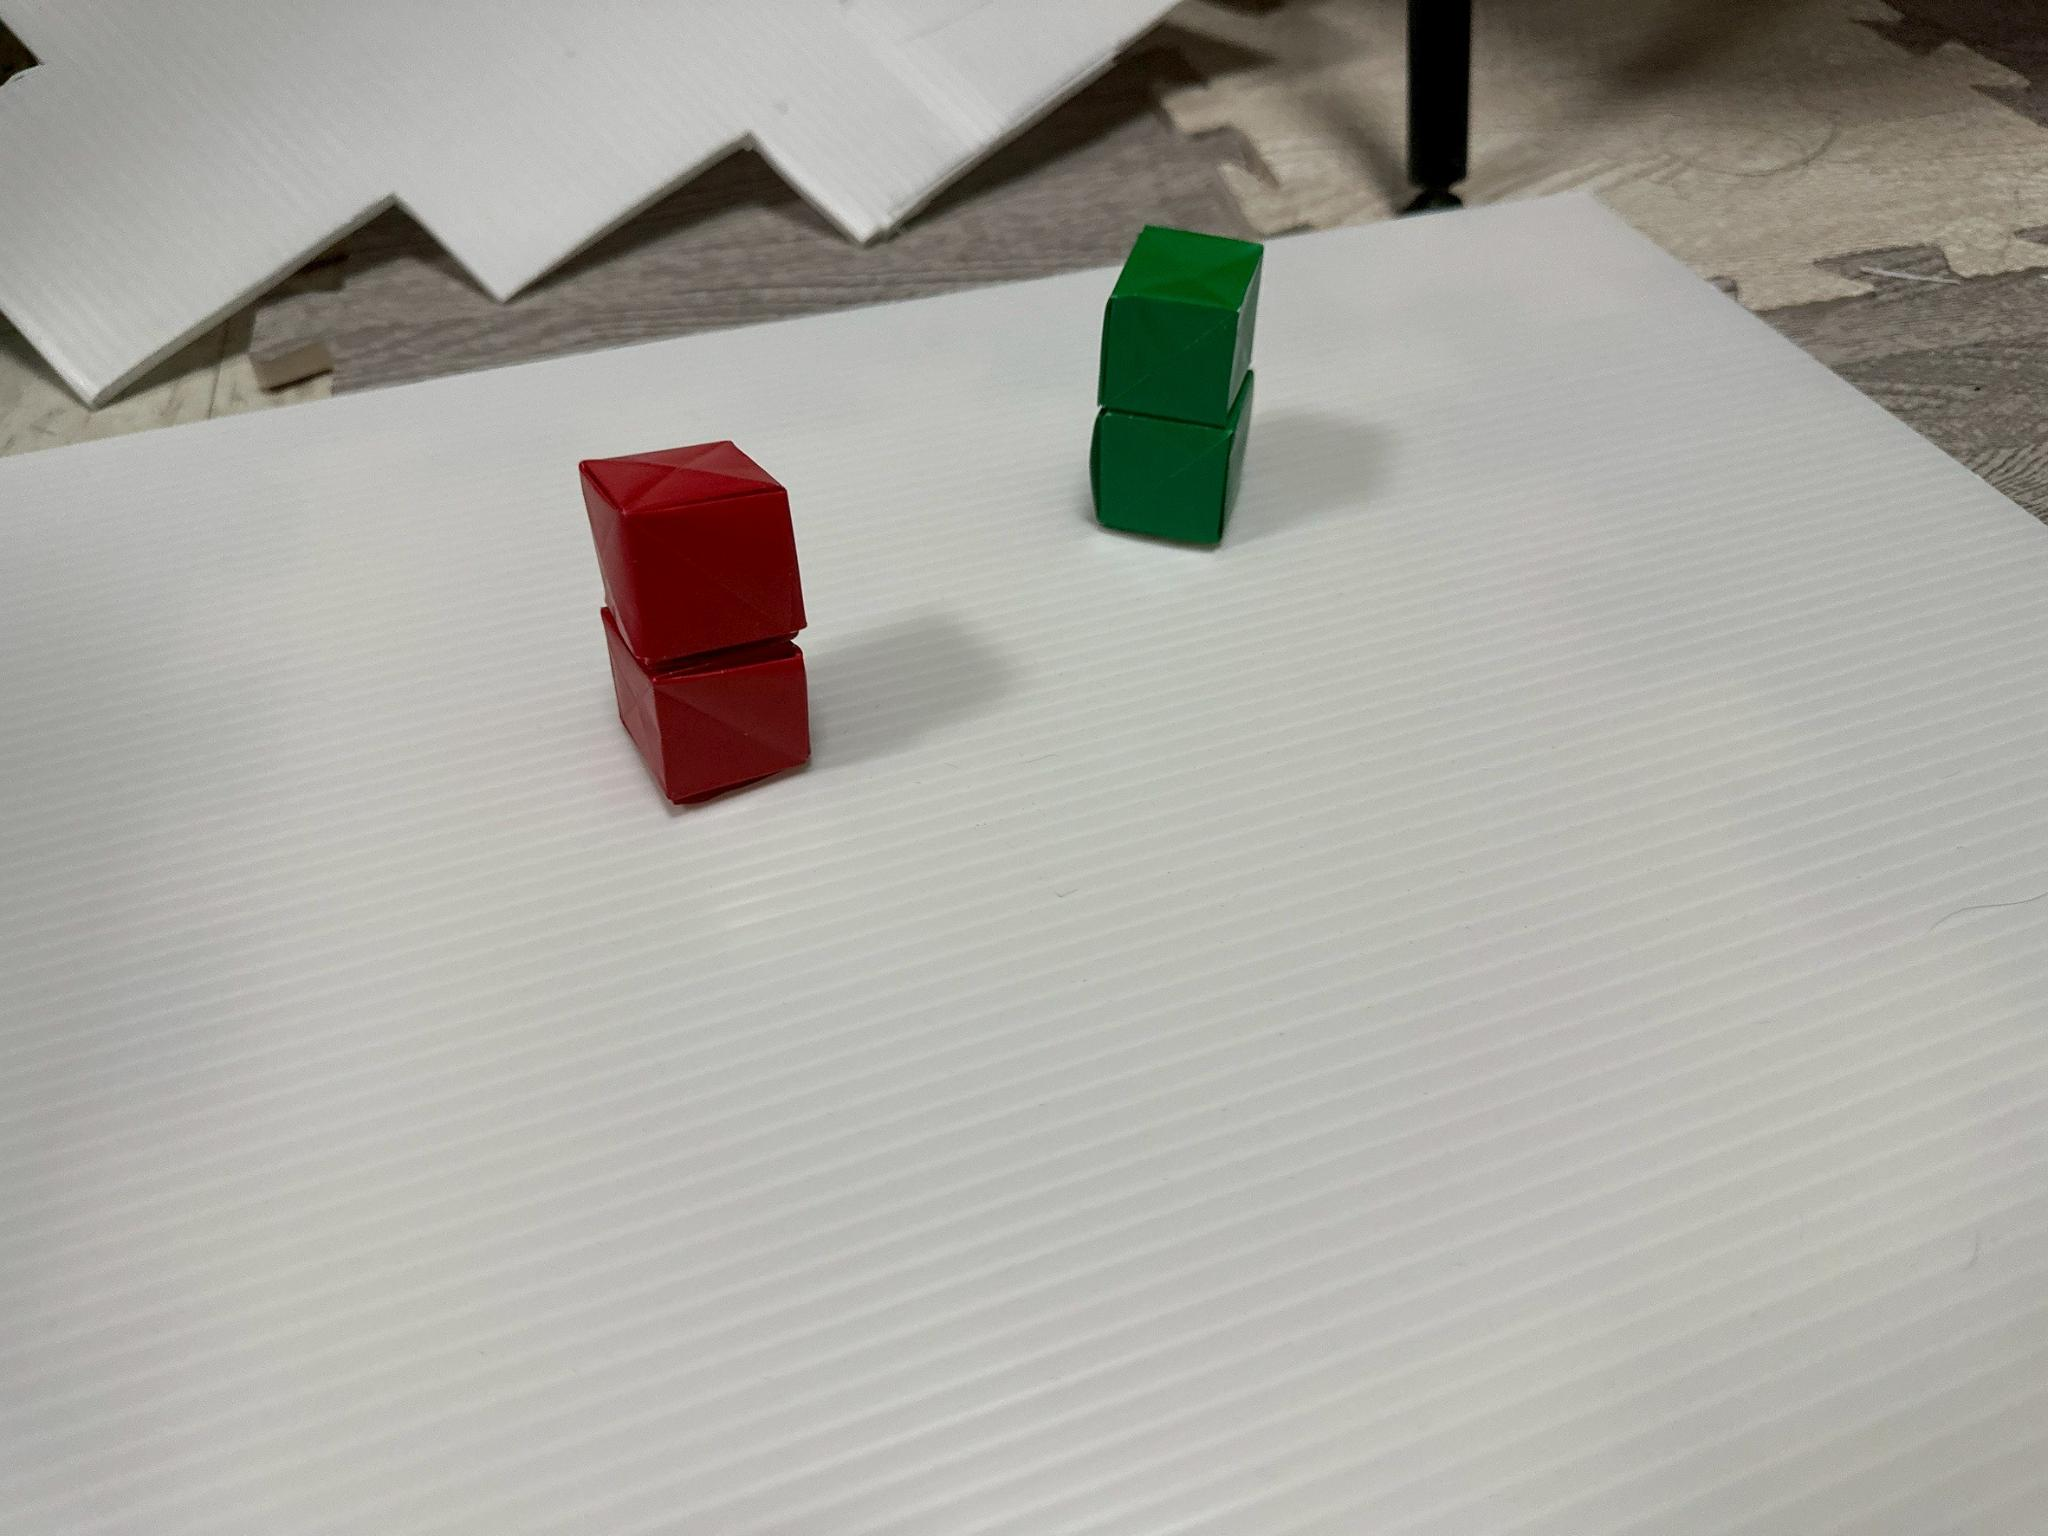base: (579, 440, 805, 662), (601, 607, 808, 802), (1098, 226, 1263, 428), (1090, 373, 1251, 545)
